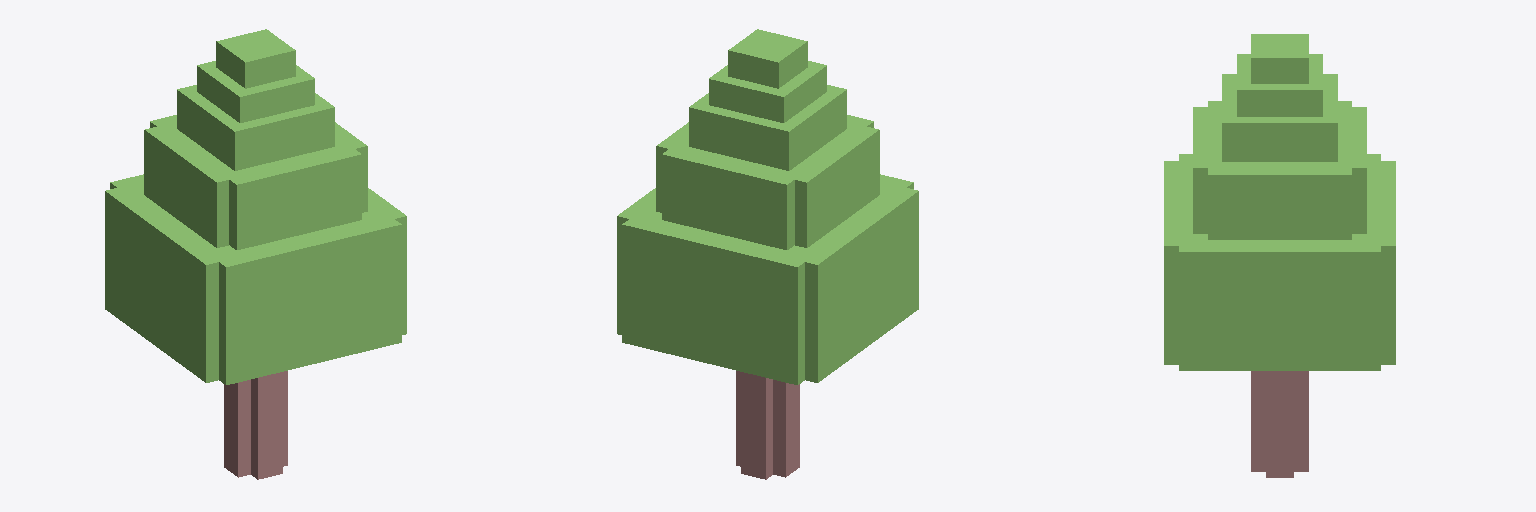
The picture shows the model from 3 angles: view 1: azimuth 30°, elevation 25°; view 2: azimuth 150°, elevation 25°; view 3: azimuth 270°, elevation 25°; orthographic projection.
Visible parts, largest first — view 1: object 1; view 2: object 1; view 3: object 1.
Boxes of the visible parts, box(x1,y1,x2,y2) form: object 1: box(105, 29, 406, 479); object 1: box(617, 29, 918, 479); object 1: box(1164, 34, 1395, 477).
Size of the model in its own units: 1.6 by 3.2 by 1.6.
Materials: 1 (1 with a texture image).